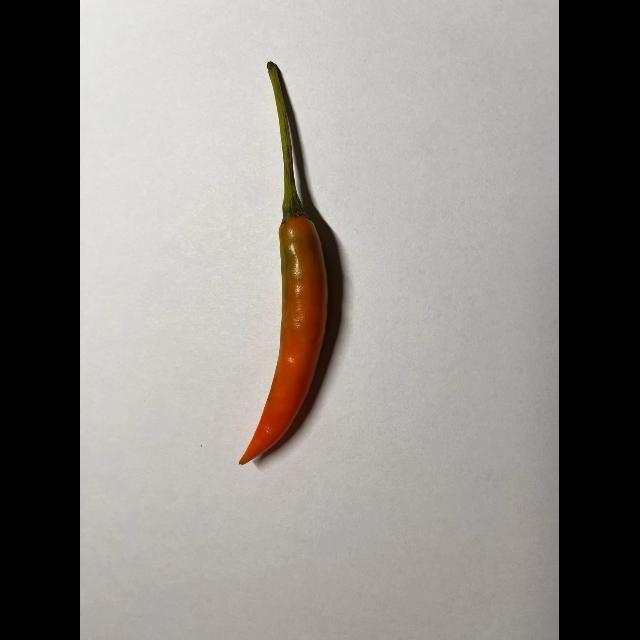chili_pepper: (228, 53, 353, 473)
